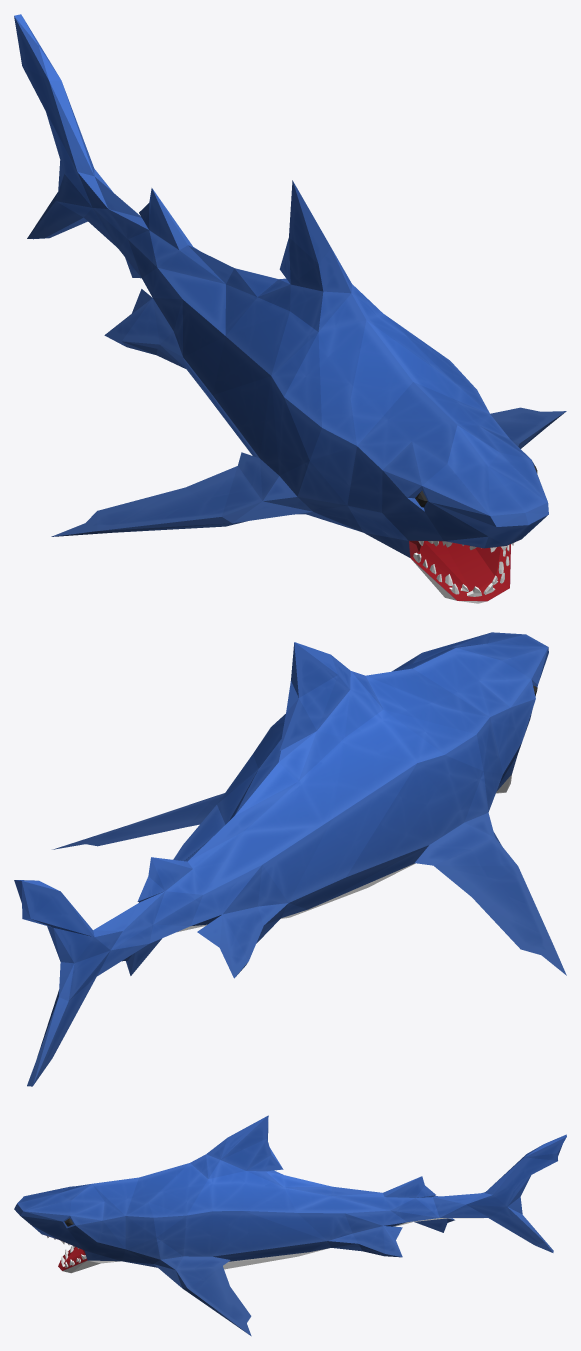
File: Shark.fbx
3 views of the same model, one above another, from view 1: azimuth 30°, elevation 25°; view 2: azimuth 150°, elevation 25°; view 3: azimuth 270°, elevation 25° (orthographic). The views are drawn at different scales.
Visible parts, largest first — view 1: shark_01; view 2: shark_01; view 3: shark_01.
Boxes of the visible parts, <box> form: shark_01: <box>14,14,566,603</box>; shark_01: <box>14,632,566,1086</box>; shark_01: <box>14,1115,566,1336</box>.
Bounding box in the file's own units: 208 × 111 × 357.
